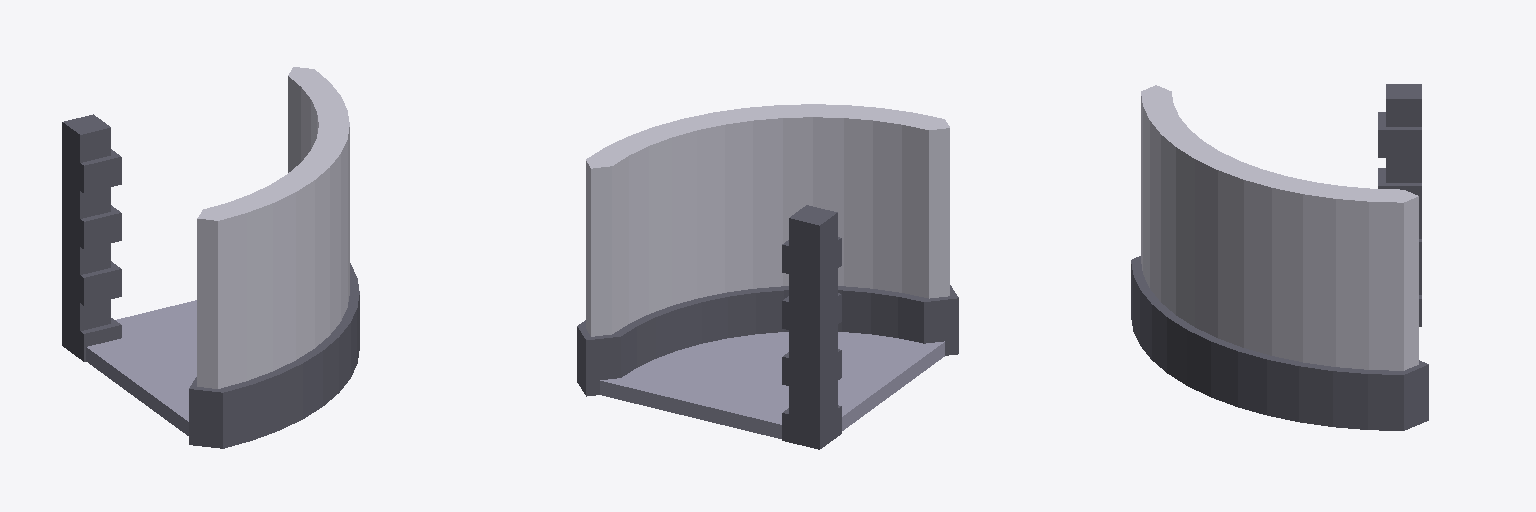
File: sm_corner_02.obj
3 views of the same model, side by side, from view 1: azimuth 30°, elevation 25°; view 2: azimuth 150°, elevation 25°; view 3: azimuth 270°, elevation 25° (orthographic).
Visible parts, largest first — view 1: corner_03_161, wall_borderBricks_159, floor_curve%_160; view 2: corner_03_161, floor_curve%_160, wall_borderBricks_159; view 3: corner_03_161, wall_borderBricks_159.
Boxes of the visible parts, x1=… form: corner_03_161: x1=189, y1=67, x2=359, y2=448; wall_borderBricks_159: x1=62, y1=114, x2=121, y2=361; floor_curve%_160: x1=86, y1=300, x2=196, y2=435; corner_03_161: x1=577, y1=104, x2=958, y2=396; floor_curve%_160: x1=600, y1=332, x2=944, y2=438; wall_borderBricks_159: x1=782, y1=205, x2=841, y2=449; corner_03_161: x1=1131, y1=85, x2=1428, y2=430; wall_borderBricks_159: x1=1378, y1=84, x2=1421, y2=326.
Size of the model in its own units: 1.21 by 1 by 1.21.